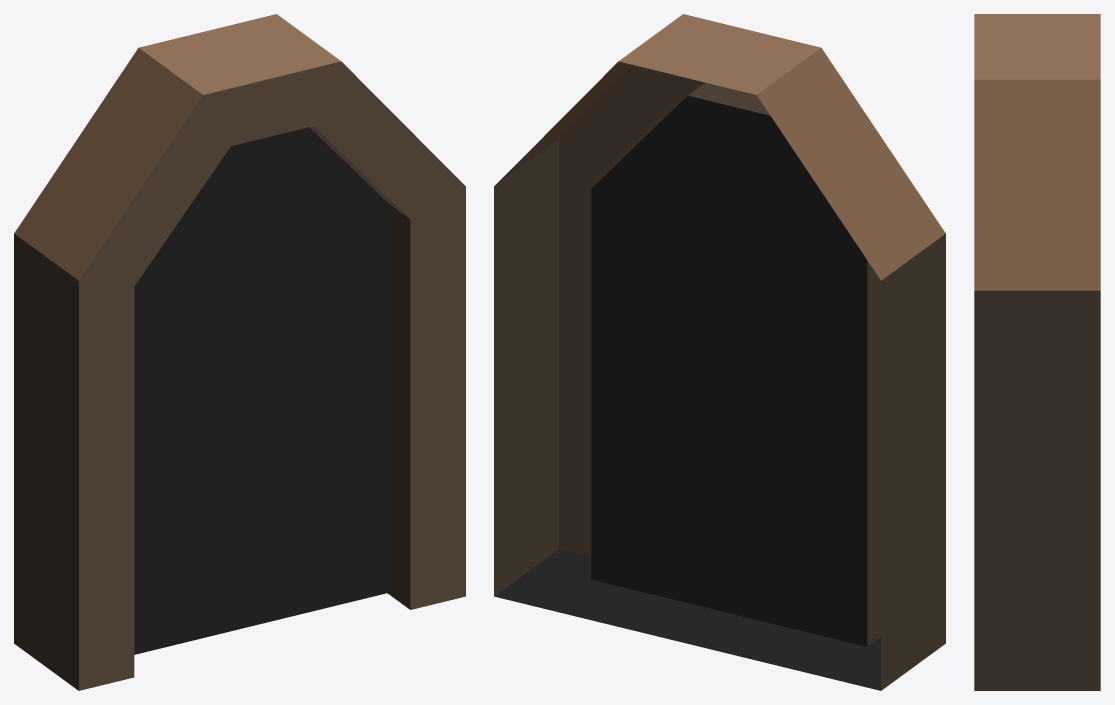
File: TB_D_Bd_Arch_DoorFrame_A.FBX
3 renders of one model, left to right at view 1: azimuth 30°, elevation 25°; view 2: azimuth 150°, elevation 25°; view 3: azimuth 270°, elevation 25°, orthographic. The views are drawn at different scales.
Parts seen in each view (by area): view 1: TB_D_Bd_Arch_DoorFrame_A; view 2: TB_D_Bd_Arch_DoorFrame_A; view 3: TB_D_Bd_Arch_DoorFrame_A.
Part boxes in pixels (x1,y1,x2,y2): TB_D_Bd_Arch_DoorFrame_A: (14,14,465,690); TB_D_Bd_Arch_DoorFrame_A: (494,14,945,690); TB_D_Bd_Arch_DoorFrame_A: (974,14,1100,690).
Bounding box in the file's own units: 1.4 × 1.95 × 0.4047.
